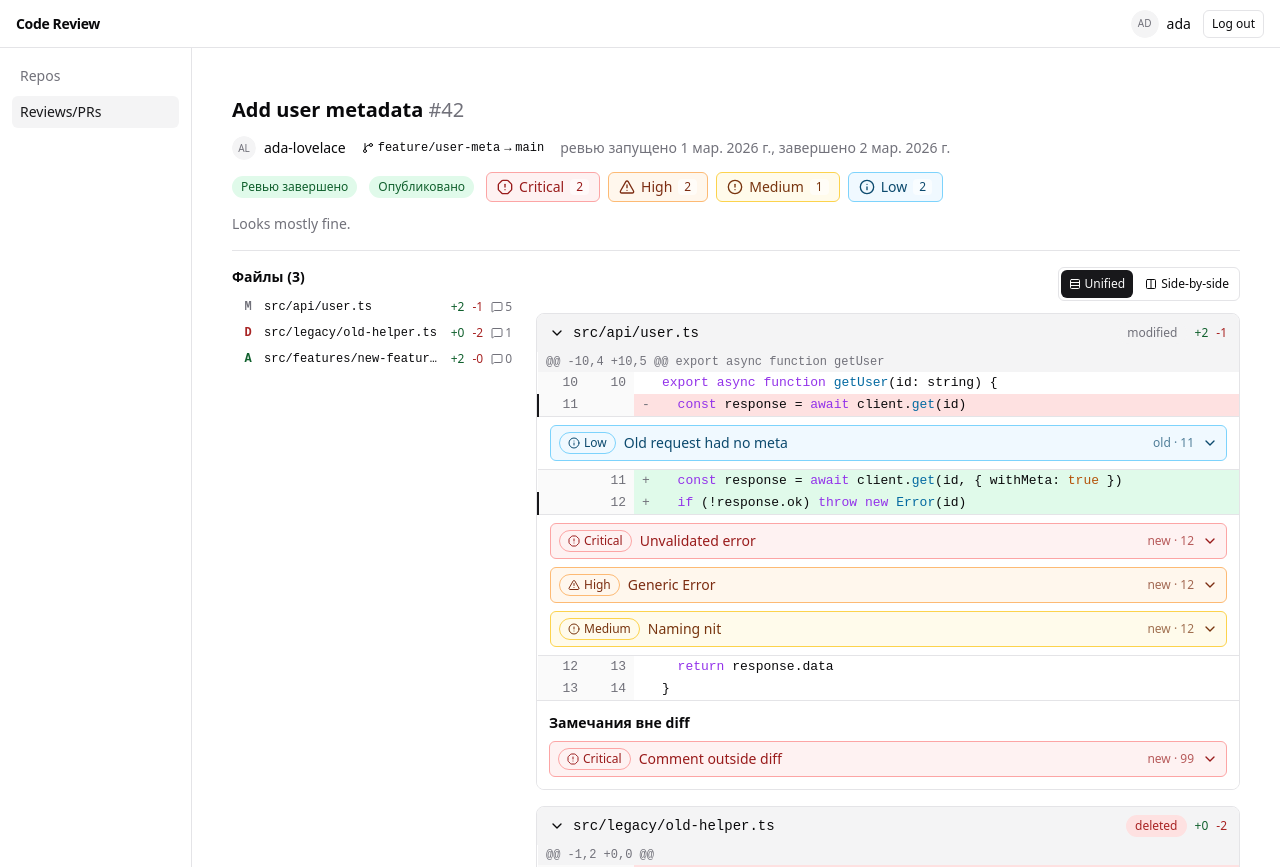
Test: PullRequestPage: AI comments under their lines (DoD) › unified mode › renders cards collapsed by default and expands on click and on Enter
Expected: the heading "Add user metadata #42" is shown, [232,96,464,123]
Click the button "Critical Unvalidated error new · 12". click: (595, 541)
box: [551,524,1226,558]
(page scrolled)
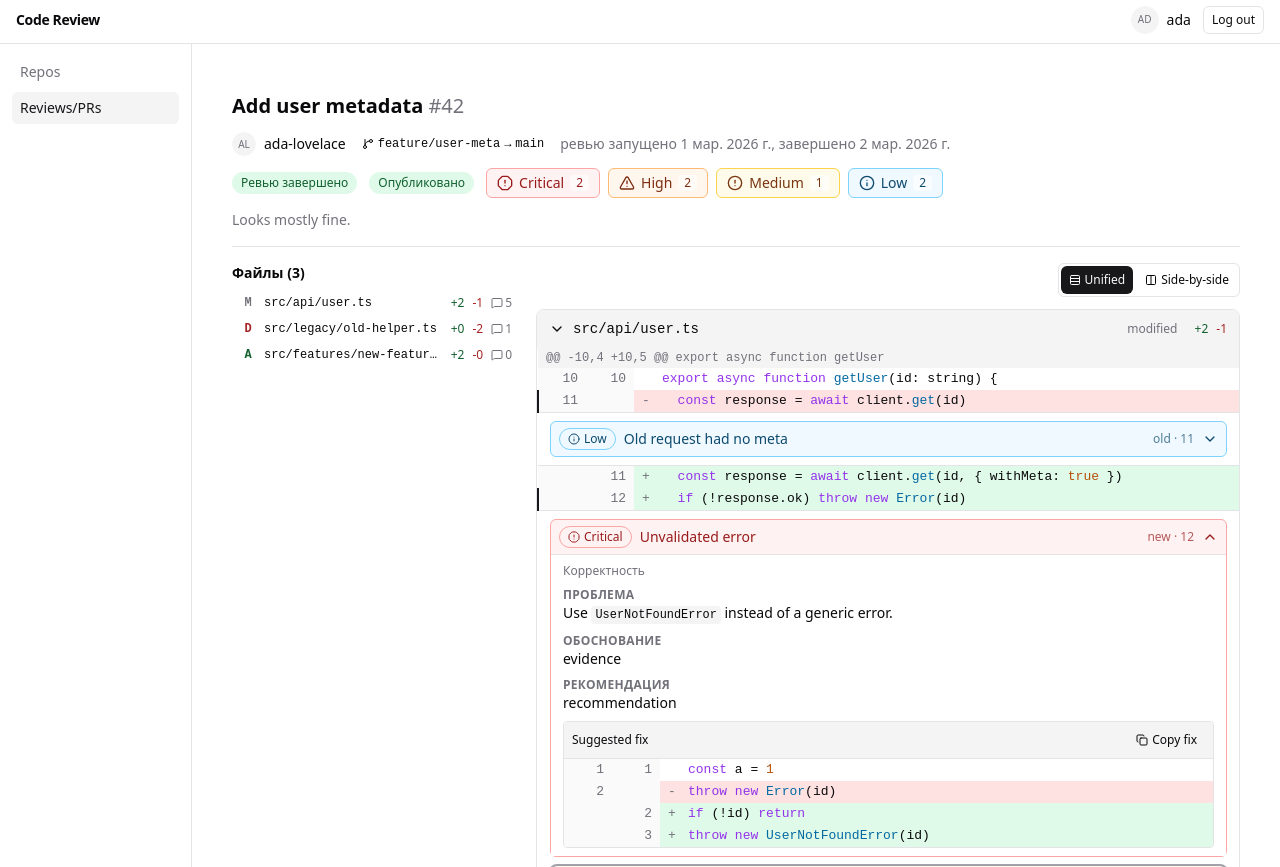
Now the button "Critical Unvalidated error new · 12" is expanded, box [551,520,1226,554]
Now the text "Use UserNotFoundError instead of a generic error." is shown, box [563,603,893,624]
Now the row with test id "fix-row" showing "1 1 const a = 1" is shown, box [564,759,1213,781]
Press Enter
(page scrolled)
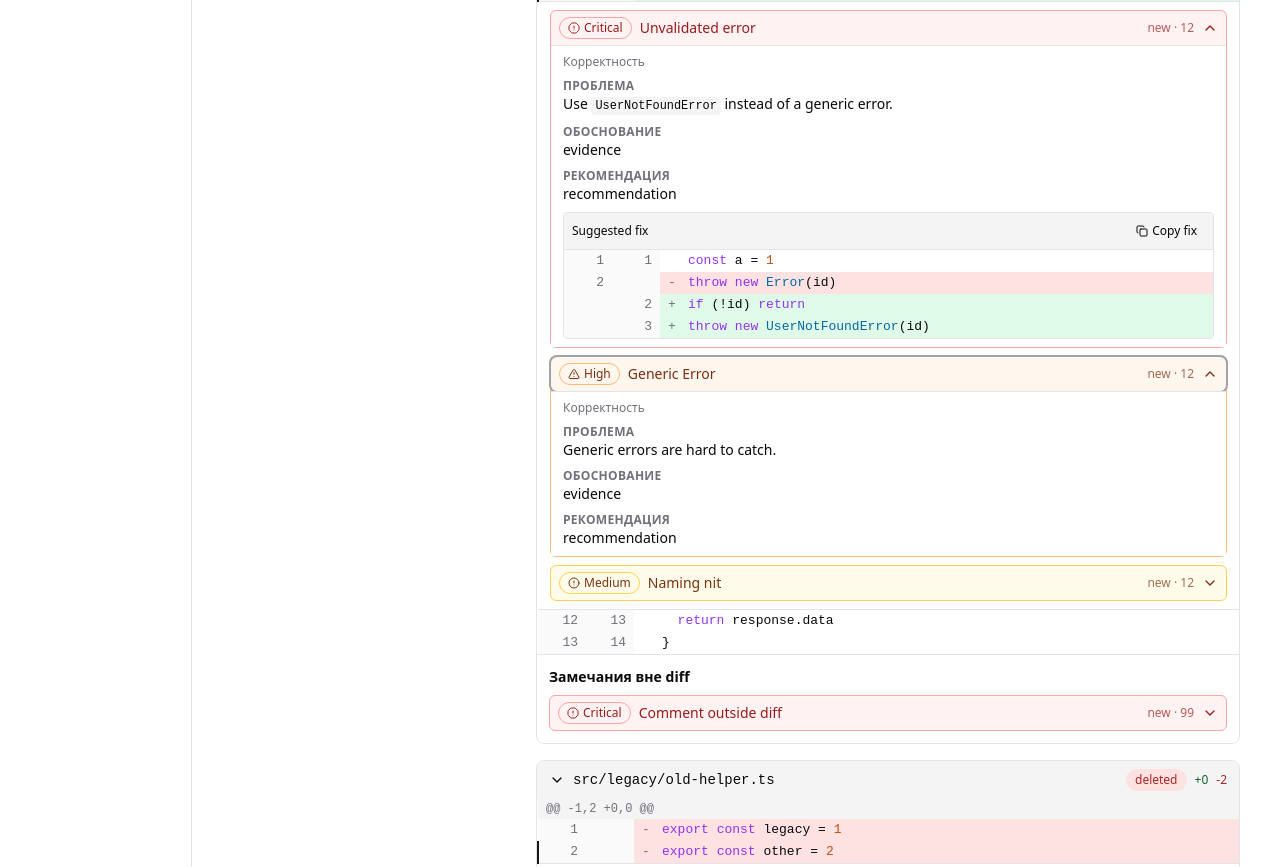
Now the button "High Generic Error new · 12" is expanded, box [551,357,1226,391]
Now the text "Generic errors are hard to catch." is shown, box [563,440,776,459]
